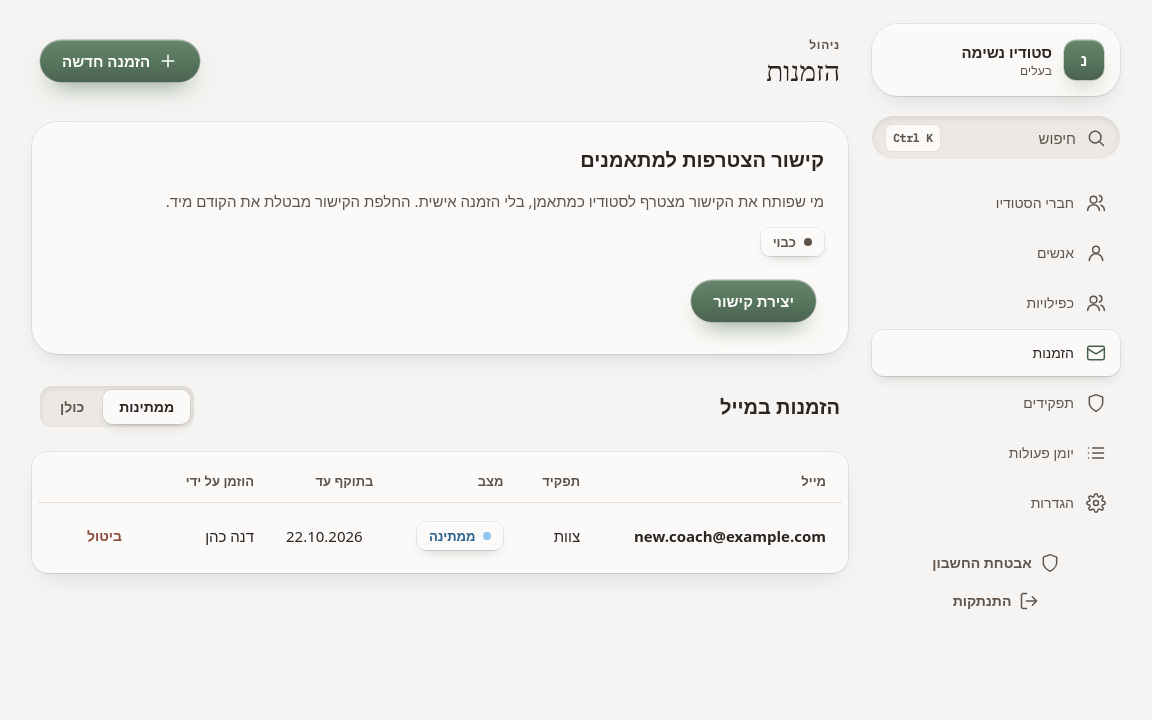
Test: invitations › revokes a pending invitation
Click the button with aria-label "ביטול ההזמנה ל־new.coach@example.com": (104, 536) [65,519,144,553]
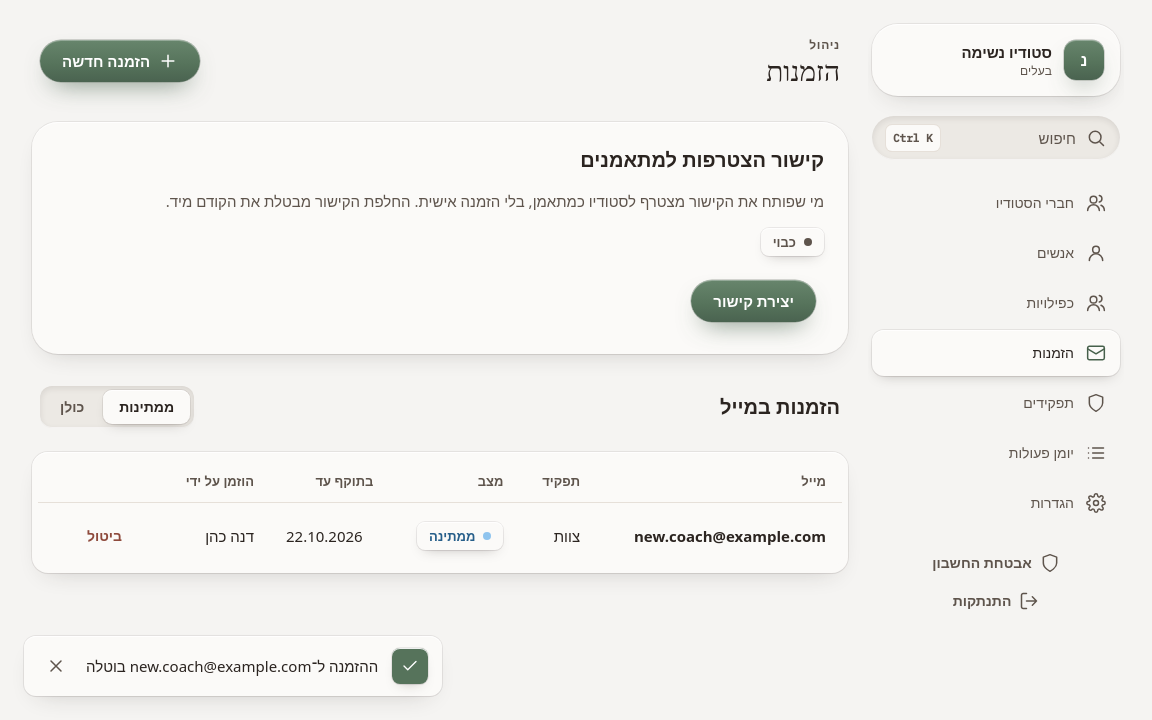
Expected: the text "ההזמנה ל־new.coach@example.com בוטלה" is shown, [86,655,378,677]
